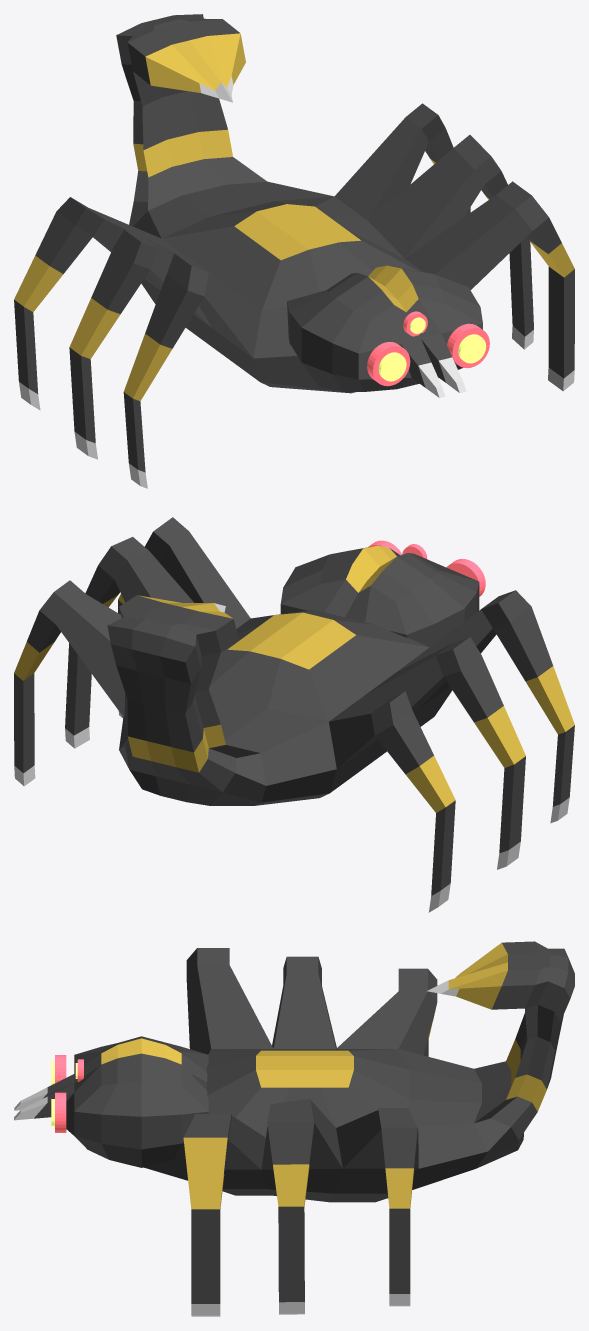
Rendered from ENEMY_1_A.fbx.
3 views of the same model, one above another, from view 1: azimuth 30°, elevation 25°; view 2: azimuth 150°, elevation 25°; view 3: azimuth 270°, elevation 25° (orthographic). The views are drawn at different scales.
Parts seen in each view (by area): view 1: Plane; view 2: Plane; view 3: Plane.
Part boxes in pixels (box(x1,y1,x2,y2)): Plane: box(14, 14, 574, 488); Plane: box(14, 517, 574, 912); Plane: box(14, 941, 574, 1316).
Size of the model in its own units: 682 by 417 by 790.
